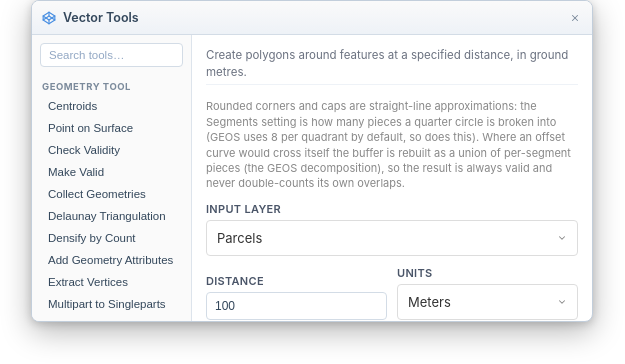
Test case: Vector Tools window › defaults the output name to "<tool> of <layer>"
The width and height of the screenshot is (625, 364).
Step 1. Click the button "Centroids" → (112, 106), box [32,95,191,117]
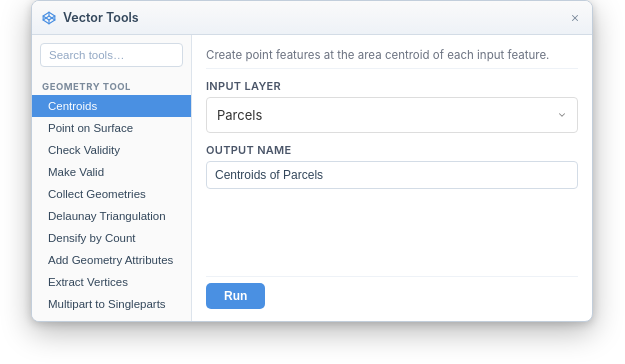
Check: the field with placeholder "Result layer name" holds "Centroids of Parcels", box [206,161,578,189]
